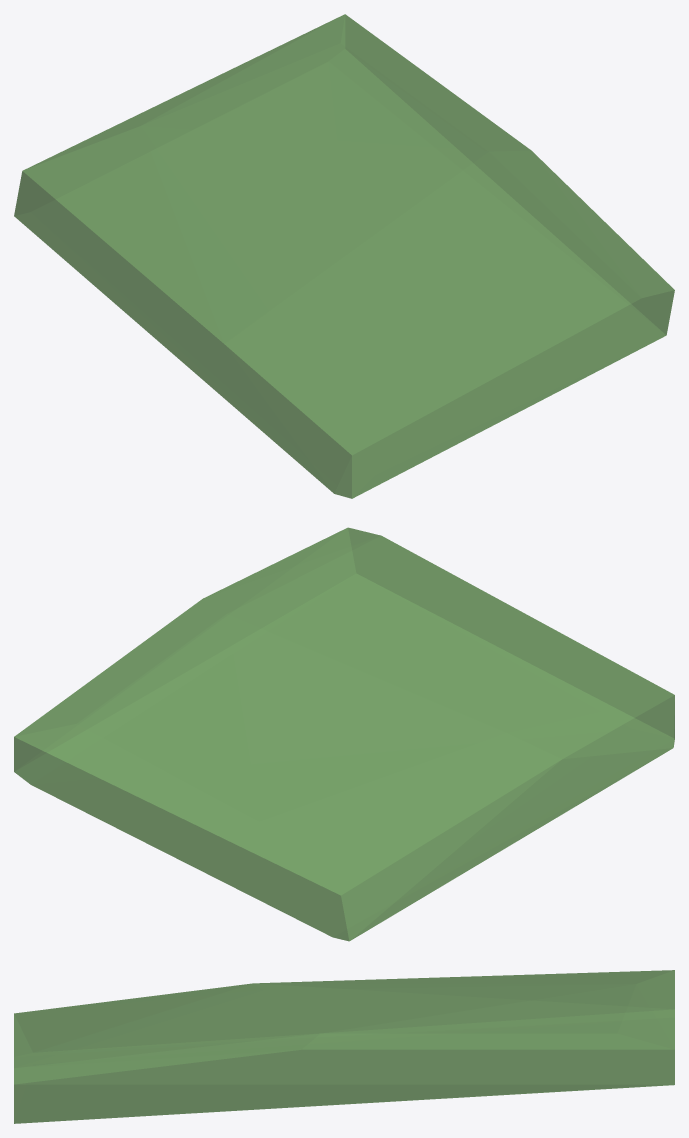
3 renders of one model, top to bottom at view 1: azimuth 30°, elevation 25°; view 2: azimuth 150°, elevation 25°; view 3: azimuth 270°, elevation 25°, orthographic.
Visible parts, largest first — view 1: Shape_IndexedFaceSet.055_Shape_IndexedFaceSet.14088; view 2: Shape_IndexedFaceSet.055_Shape_IndexedFaceSet.14088; view 3: Shape_IndexedFaceSet.055_Shape_IndexedFaceSet.14088.
Boxes of the visible parts, x1,y1,x2,y2 form: Shape_IndexedFaceSet.055_Shape_IndexedFaceSet.14088: (14, 14, 674, 498); Shape_IndexedFaceSet.055_Shape_IndexedFaceSet.14088: (14, 527, 674, 941); Shape_IndexedFaceSet.055_Shape_IndexedFaceSet.14088: (14, 970, 674, 1123).
Size of the model in its own units: 0.1338 by 0.0635 by 0.2307.
